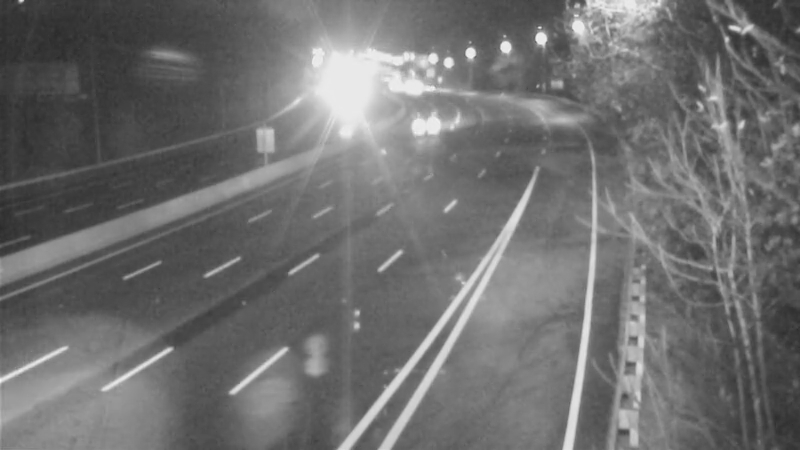vehicle: (407, 66, 457, 116), (402, 95, 452, 145), (321, 80, 371, 130)
